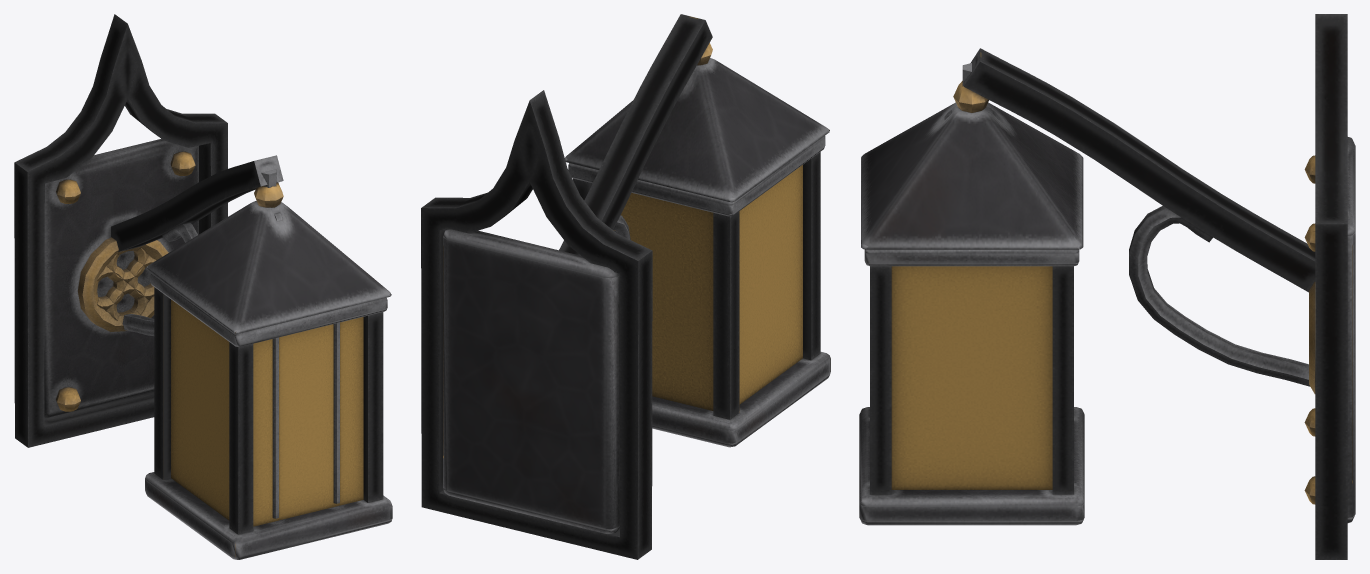
Rendered from WallSconce.fbx.
3 views of the same model, side by side, from view 1: azimuth 30°, elevation 25°; view 2: azimuth 150°, elevation 25°; view 3: azimuth 270°, elevation 25° (orthographic). The views are drawn at different scales.
Visible parts, largest first — view 1: WallSconce_Sconce, WallSconce_Glass; view 2: WallSconce_Sconce, WallSconce_Glass; view 3: WallSconce_Sconce, WallSconce_Glass.
Boxes of the visible parts, x1,y1,x2,y2 form: WallSconce_Sconce: [14, 14, 392, 559]; WallSconce_Glass: [171, 299, 363, 526]; WallSconce_Sconce: [421, 14, 830, 559]; WallSconce_Glass: [621, 165, 802, 410]; WallSconce_Sconce: [859, 14, 1355, 559]; WallSconce_Glass: [891, 266, 1052, 489].
Size of the model in its own units: 52.53 by 104 by 92.5.
